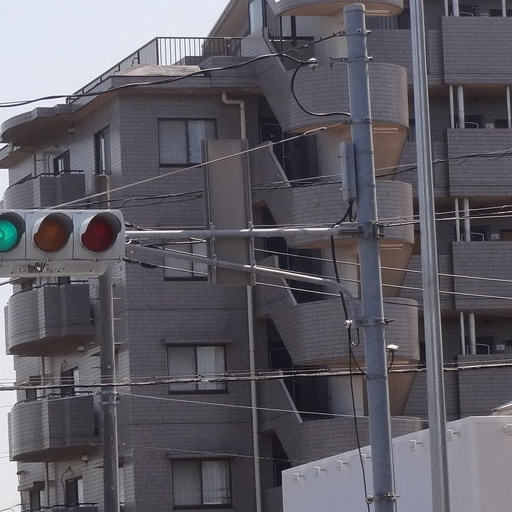Traffic_Signal_Blue: (2, 204, 129, 265)
